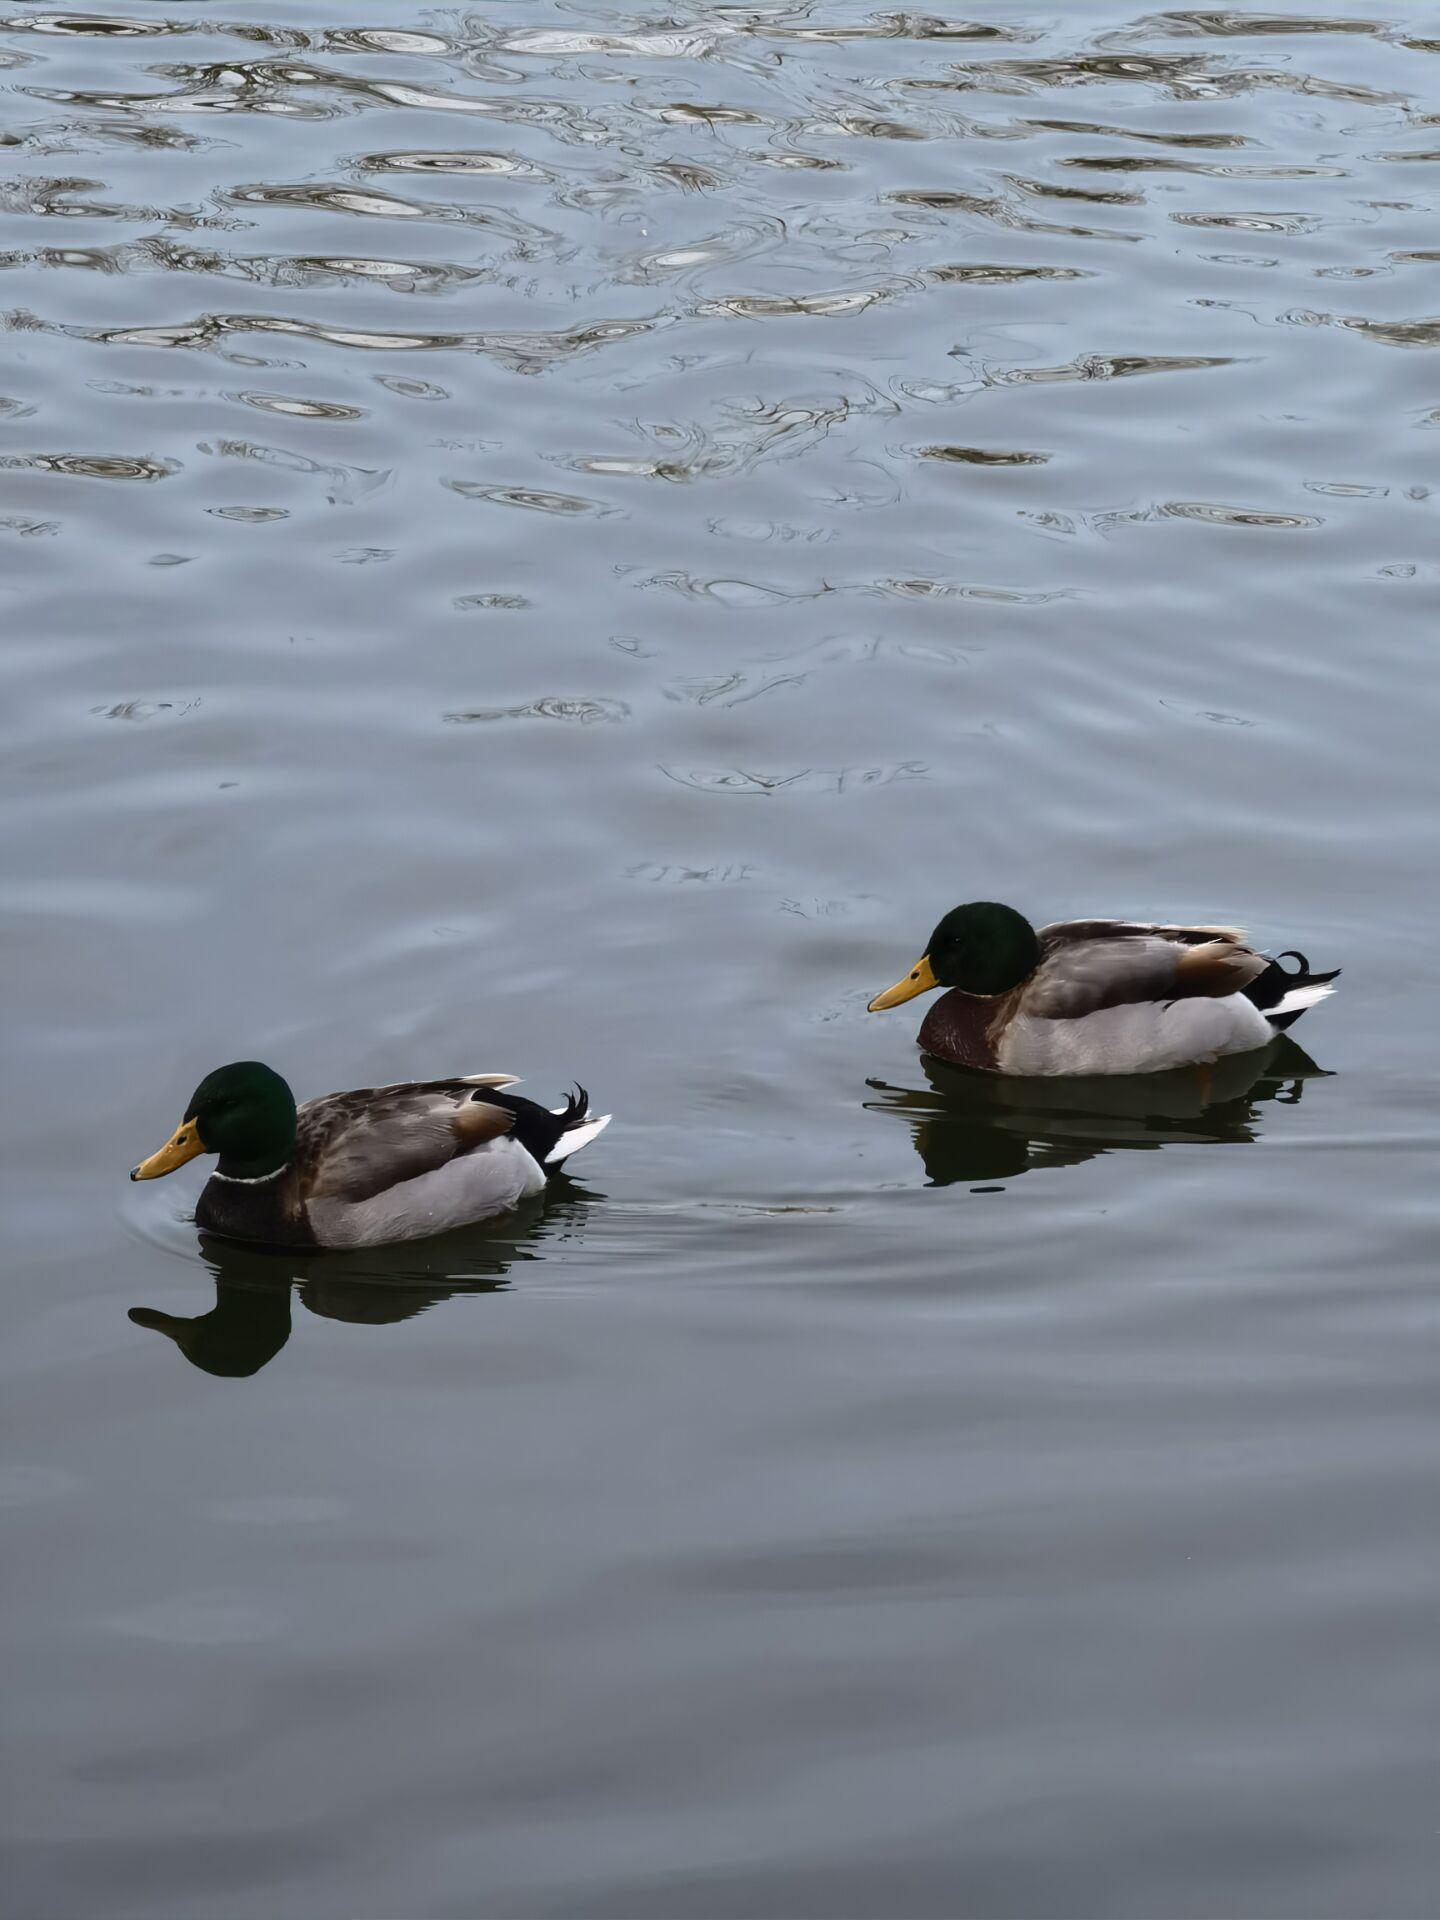duck: (121, 1042, 604, 1264), (867, 892, 1351, 1090)
